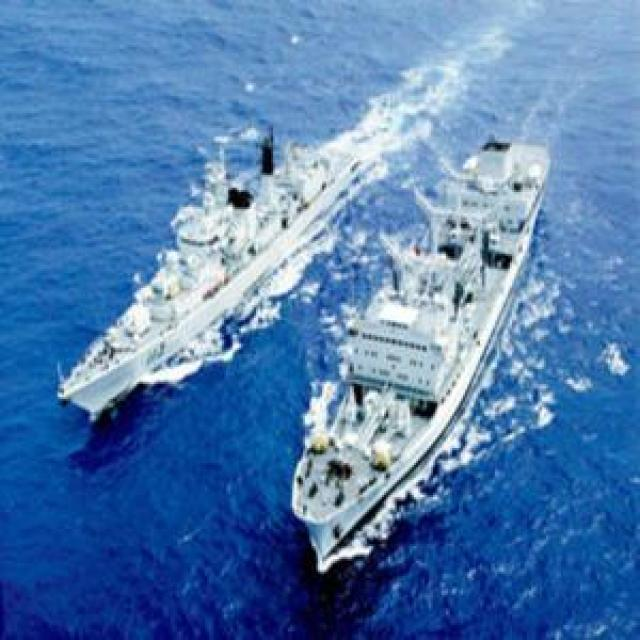navalvessels: (275, 130, 574, 580), (46, 117, 370, 420)
